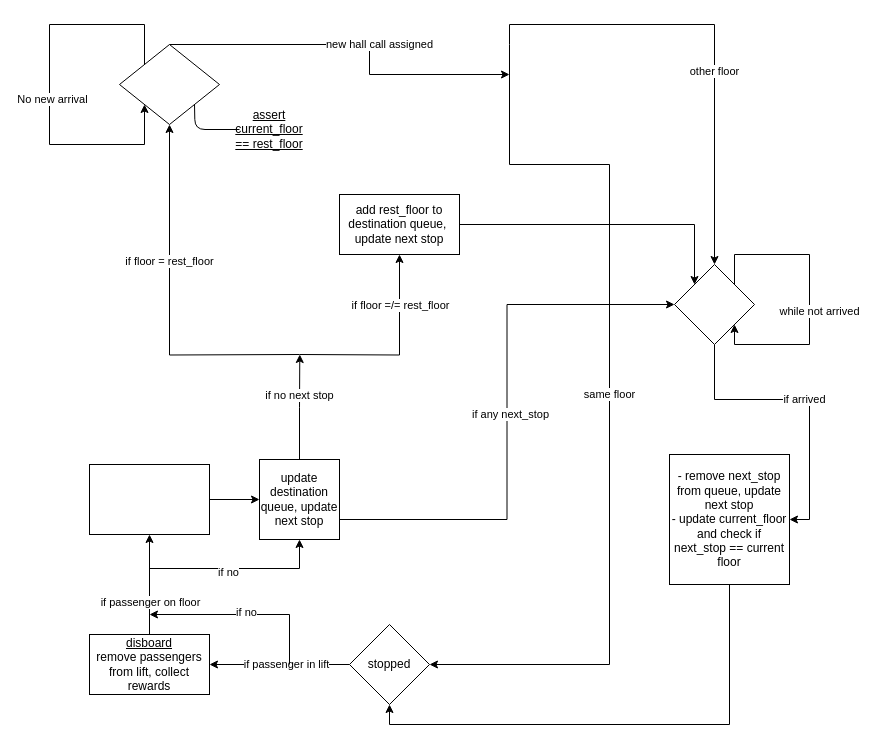
Image size: 877x750. Some labels were removed from this diagram. Here are the shapes that lost their labels. From the top down, the box of each, then its label:
(118, 44, 220, 124): Idling = no hall calls, no car calls
(674, 264, 754, 344): Moving
(88, 464, 210, 534): board Remove passengers from floor and load in elevator, collect rewards
